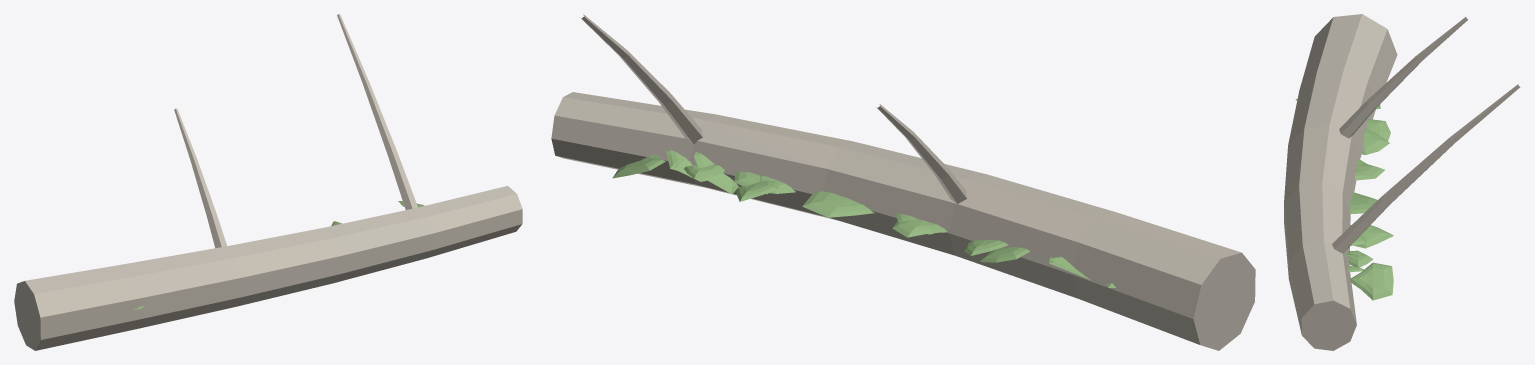
File: mossy-log.glb
3 views of the same model, side by side, from view 1: azimuth 30°, elevation 25°; view 2: azimuth 150°, elevation 25°; view 3: azimuth 270°, elevation 25° (orthographic). The views are drawn at different scales.
Parts seen in each view (by area): view 1: mossy-log; view 2: mossy-log; view 3: mossy-log.
Boxes of the visible parts, <box> form: mossy-log: <box>14,14,522,350</box>; mossy-log: <box>551,14,1255,350</box>; mossy-log: <box>1284,14,1520,350</box>.
Size of the model in its own units: 4.25 by 1.63 by 1.54.
